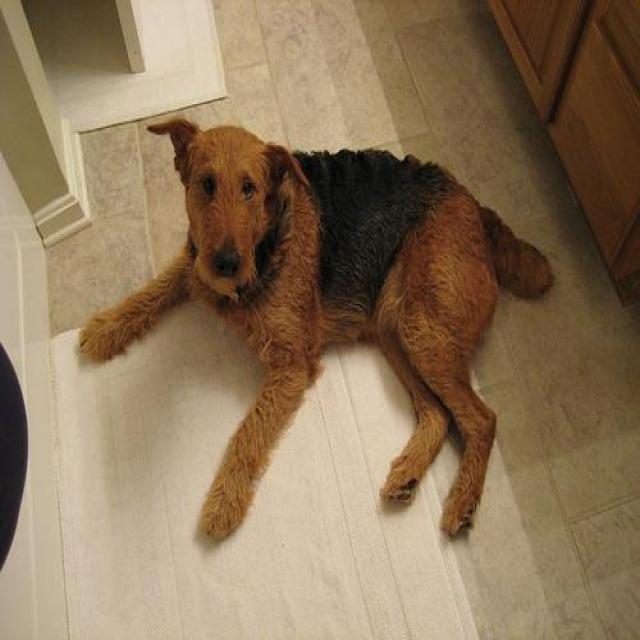airedale: (72, 111, 556, 549)
